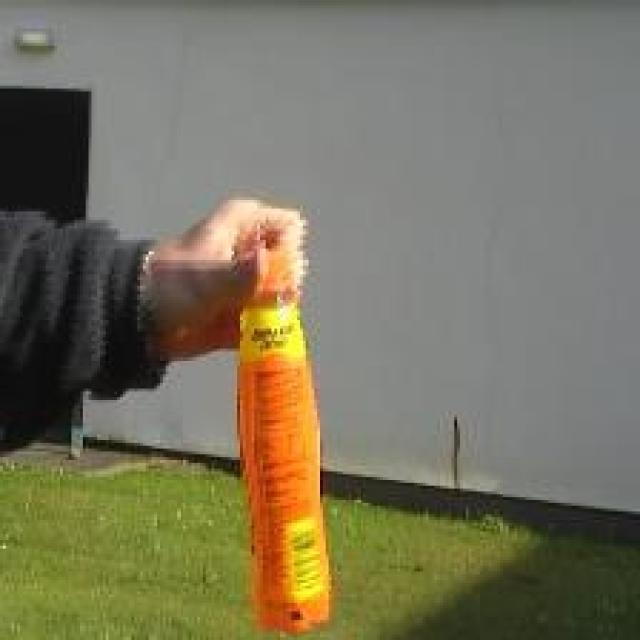other: (233, 237, 338, 621)
